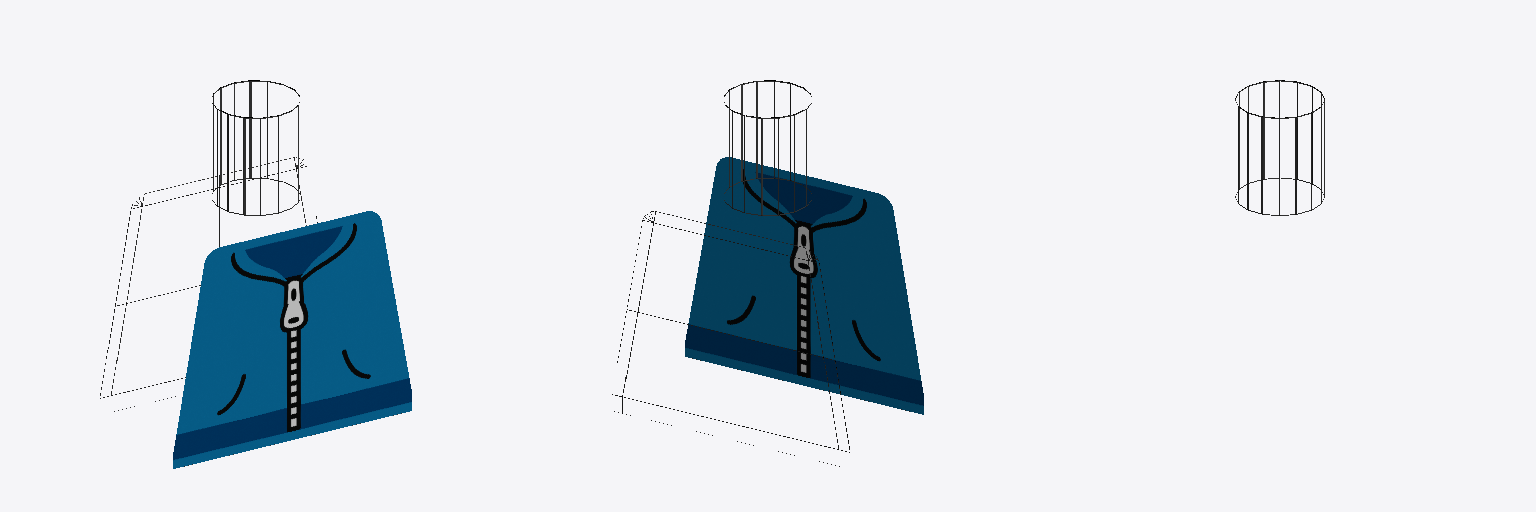
3 renders of one model, left to right at view 1: azimuth 30°, elevation 25°; view 2: azimuth 150°, elevation 25°; view 3: azimuth 270°, elevation 25°, orthographic.
Visible parts, largest first — view 1: Part.1; view 2: Part.1; view 3: Part.1.
Boxes of the visible parts, <box> form: Part.1: <box>100,80,411,468</box>; Part.1: <box>612,80,923,466</box>; Part.1: <box>1235,80,1324,215</box>.
Bounding box in the file's own units: 15.4 × 18.58 × 7.92.
1 materials, 1 textured.